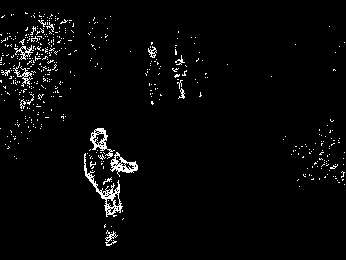person: (82, 125, 146, 253)
